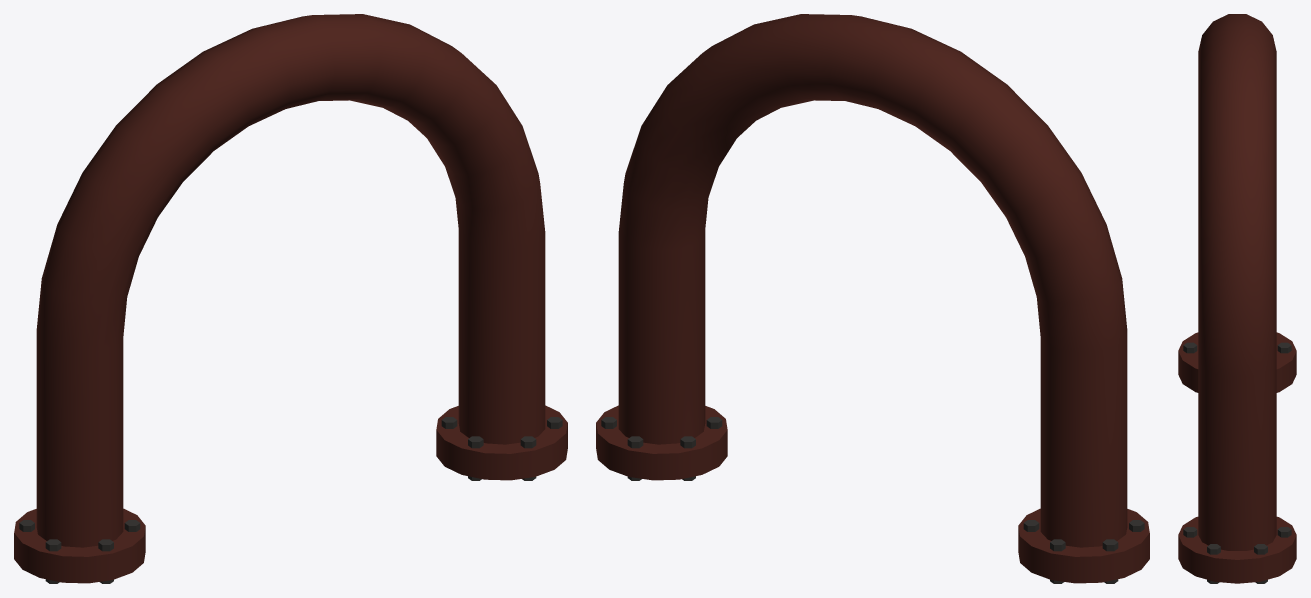
The model's file is PipeU.fbx.
3 views of the same model, side by side, from view 1: azimuth 30°, elevation 25°; view 2: azimuth 150°, elevation 25°; view 3: azimuth 270°, elevation 25° (orthographic). The views are drawn at different scales.
Visible parts, largest first — view 1: PipeU_Pipe, PipeU_Bolts; view 2: PipeU_Pipe, PipeU_Bolts; view 3: PipeU_Pipe, PipeU_Bolts.
Part boxes in pixels (x1,y1,x2,y2): PipeU_Pipe: [14, 14, 567, 583]; PipeU_Bolts: [19, 417, 562, 583]; PipeU_Pipe: [596, 14, 1149, 583]; PipeU_Bolts: [601, 417, 1144, 583]; PipeU_Pipe: [1178, 14, 1296, 583]; PipeU_Bolts: [1183, 342, 1291, 583].
Bounding box in the file's own units: 0.636 × 0.5493 × 0.136.
